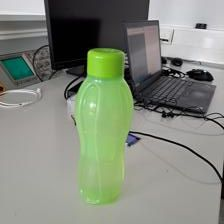bottle: (72, 47, 135, 205)
